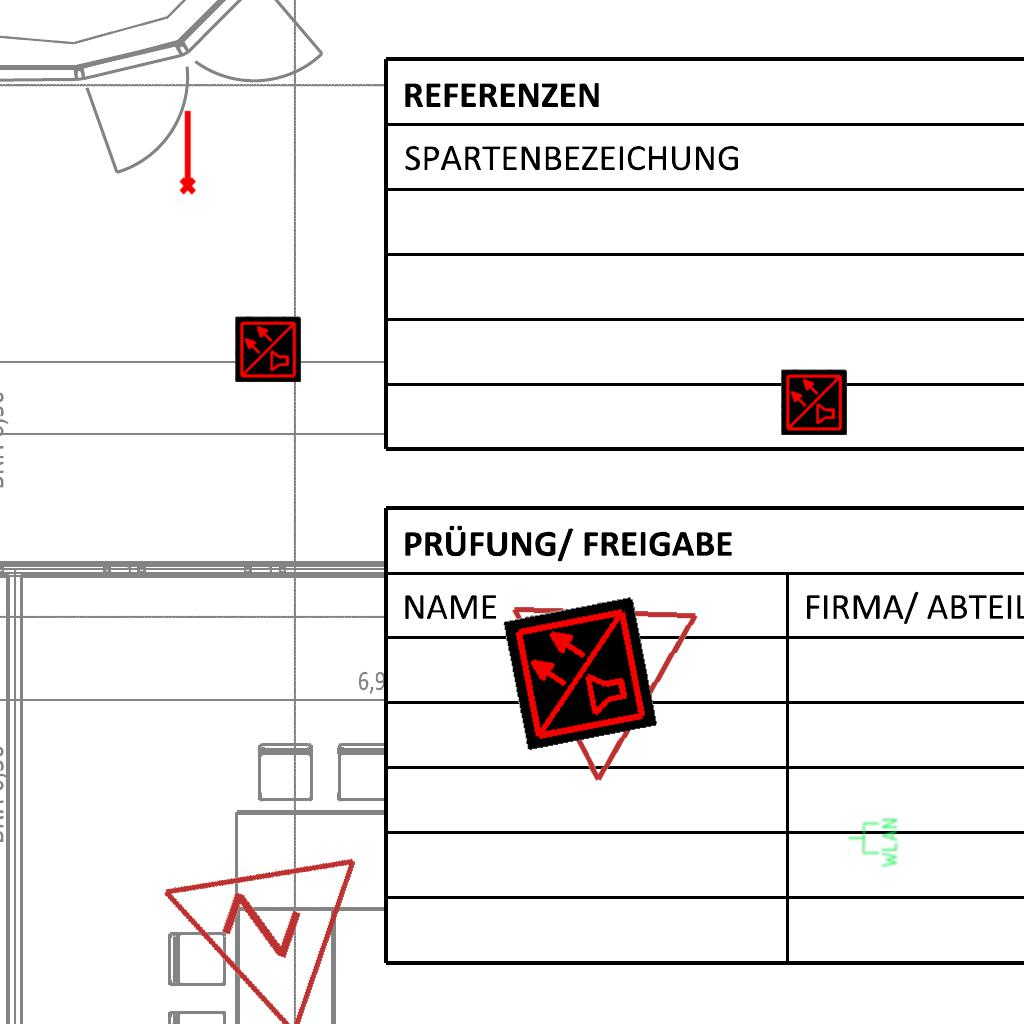ASR_Ansaugoeffnung: (175, 108, 198, 196)
OKW_Multisensormelder_(Kombination_optischer_Rauch-Kahlenmonoxid_Waerme-Melder): (502, 595, 658, 751), (235, 316, 301, 382), (781, 369, 847, 435)
WLAN: (847, 817, 899, 869)
Zimmersignalleuchte: (118, 796, 372, 1024), (502, 591, 706, 799)
